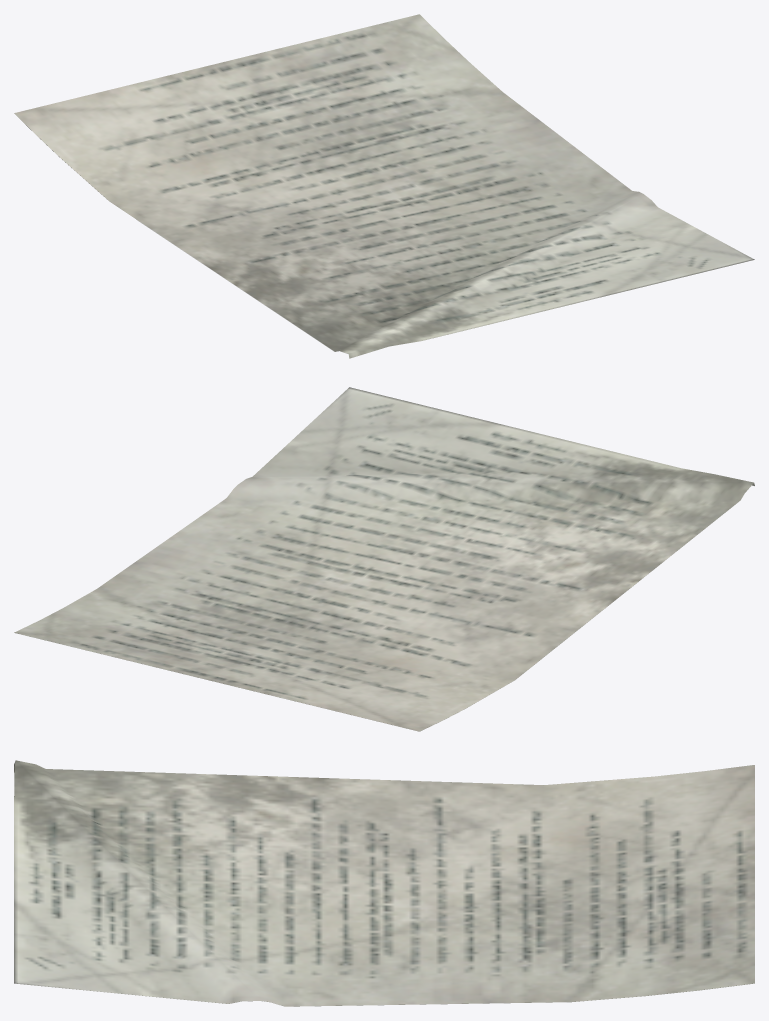
The model's file is Paper_X.obj.
3 renders of one model, top to bottom at view 1: azimuth 30°, elevation 25°; view 2: azimuth 150°, elevation 25°; view 3: azimuth 270°, elevation 25°, orthographic. The views are drawn at different scales.
Parts seen in each view (by area): view 1: Paper_X; view 2: Paper_X; view 3: Paper_X.
Boxes of the visible parts, x1=… form: Paper_X: x1=14, y1=14, x2=754, y2=358; Paper_X: x1=14, y1=387, x2=754, y2=731; Paper_X: x1=14, y1=760, x2=754, y2=1006.
Size of the model in its own units: 12.35 by 0.7331 by 17.69.
